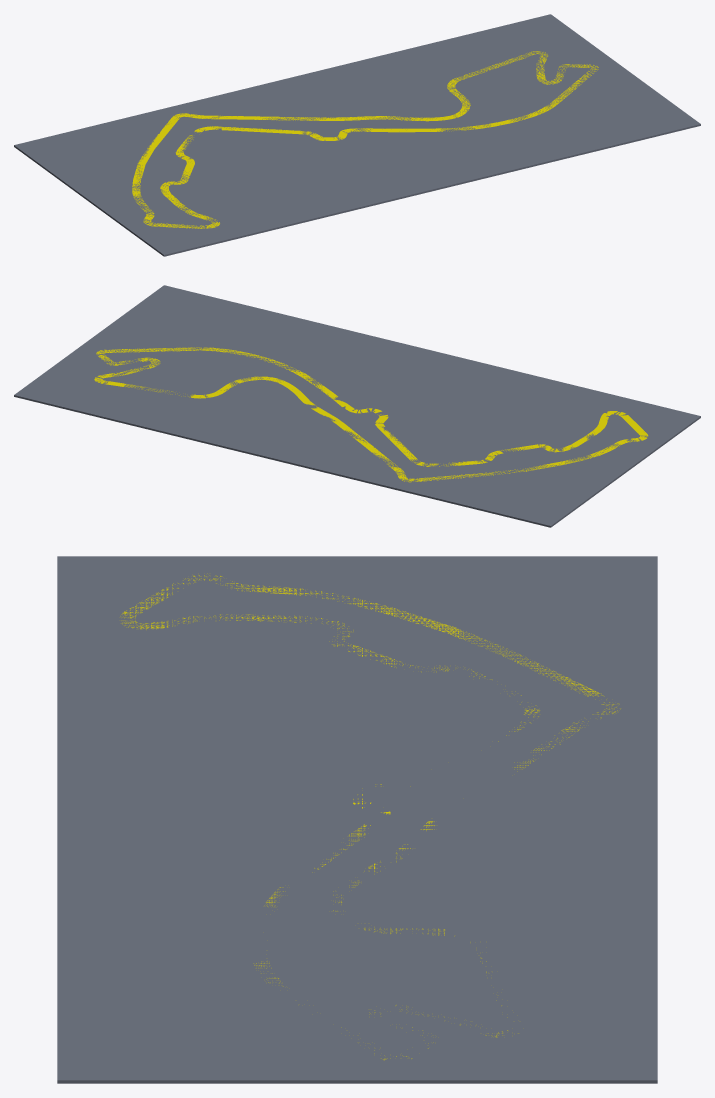
Rendered from monaco.dae.
The picture shows the model from 3 angles, top to bottom: view 1: azimuth 30°, elevation 25°; view 2: azimuth 150°, elevation 25°; view 3: azimuth 270°, elevation 25°; orthographic projection. The views are drawn at different scales.
Parts seen in each view (by area): view 1: Cube, monaco1; view 2: Cube, monaco1; view 3: Cube, monaco1.
Boxes of the visible parts, left/top/right/bottom form: Cube: left=14, top=14, right=700, bottom=256; monaco1: left=132, top=51, right=598, bottom=228; Cube: left=14, top=285, right=700, bottom=527; monaco1: left=94, top=347, right=648, bottom=482; Cube: left=57, top=556, right=657, bottom=1083; monaco1: left=120, top=573, right=620, bottom=1060.
Size of the model in its own units: 32.01 by 15.51 by 0.1.
